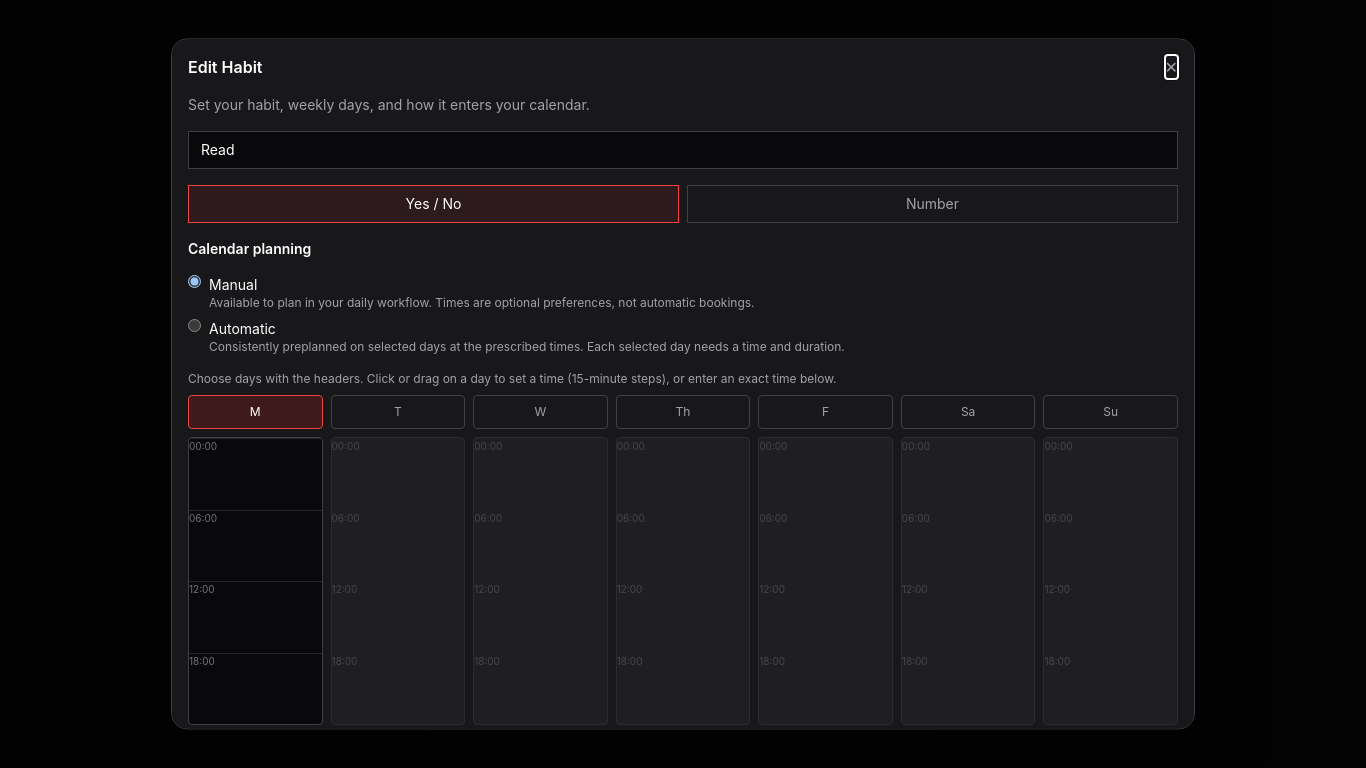
Test case: Habit editor weekly calendar › ignores unselected/disabled timelines and restores a cancelled drag
The width and height of the screenshot is (1366, 768).
Press the mouse on the 1st element showing "00:00 06:00 12:00 18:00" at [255, 581], box x1=188 y1=437 x2=323 y2=725
Press the mouse on the 2nd element showing "00:00 06:00 12:00 18:00" at [398, 581], box x1=331 y1=437 x2=465 y2=725
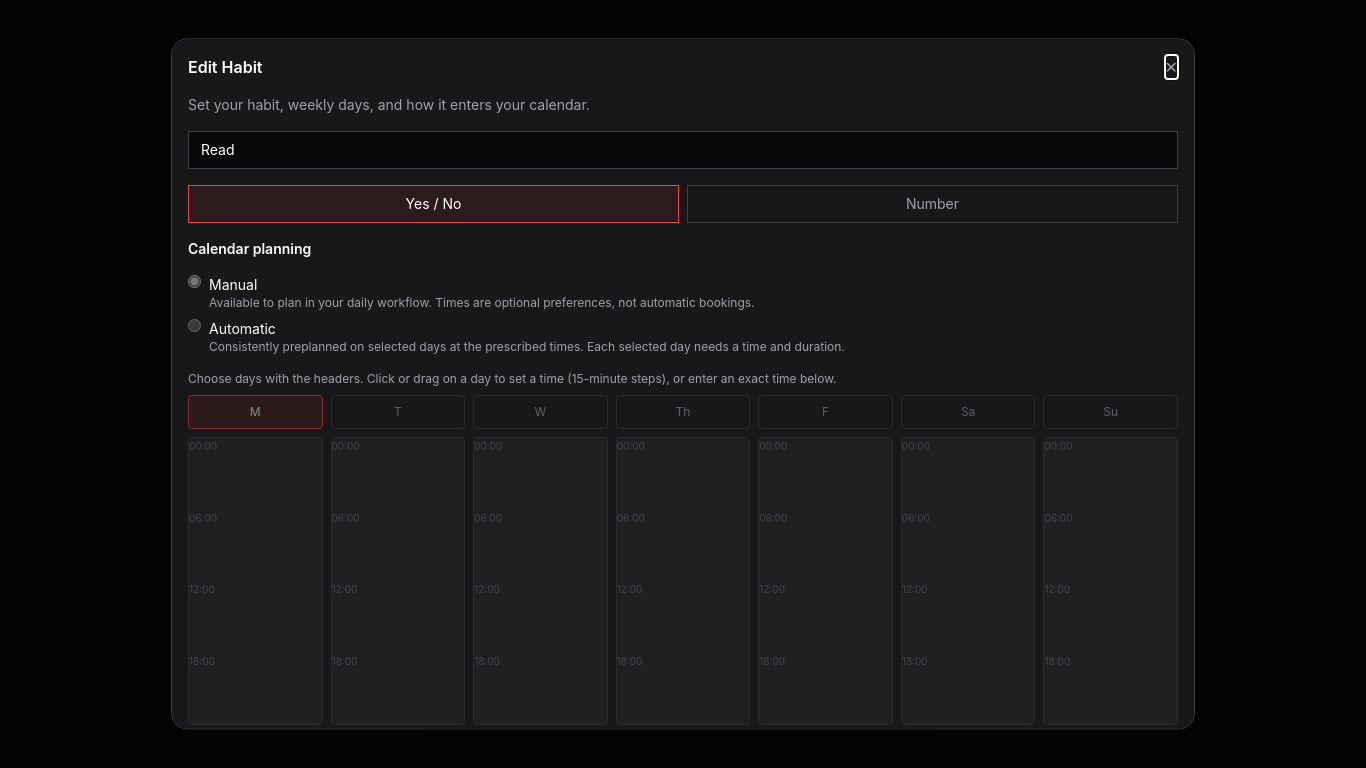
Press the mouse on the 1st element showing "00:00 06:00 12:00 18:00" at [255, 581], box x1=188 y1=437 x2=323 y2=725
(page scrolled)
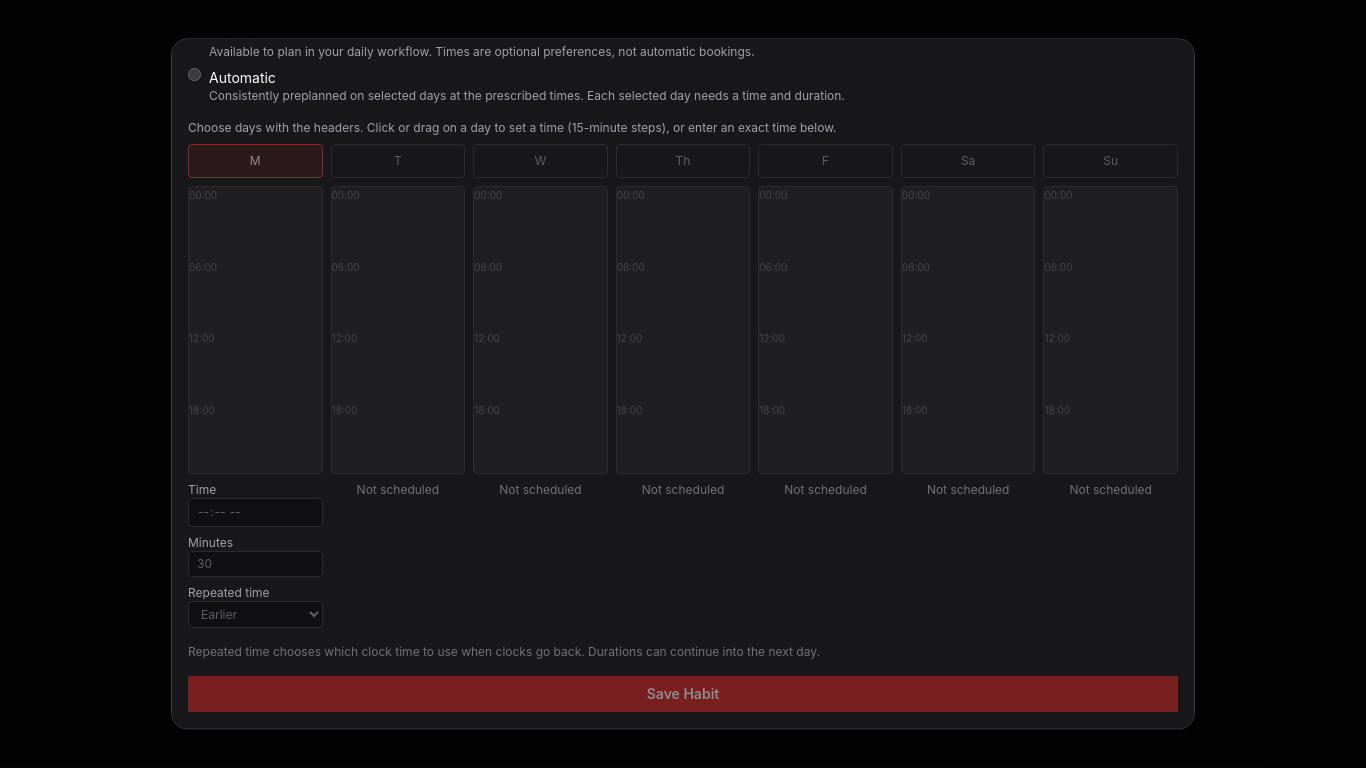
Expected: the time field named "Monday exact time" is empty, x1=188 y1=498 x2=323 y2=527
Expected: the button "Save Habit" is disabled, x1=188 y1=676 x2=1178 y2=712
